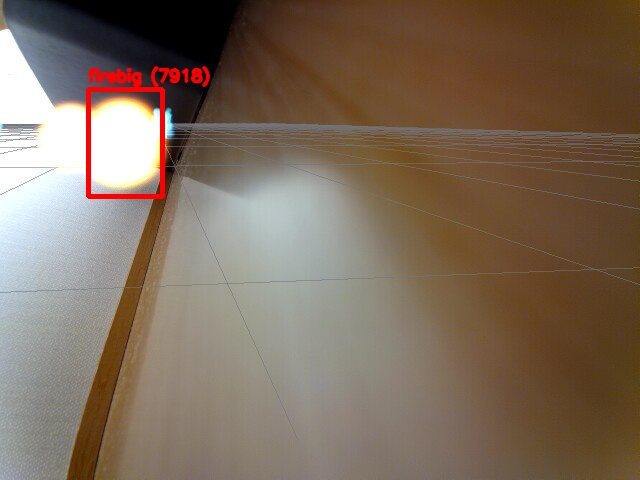firebig: (88, 89, 162, 196)
